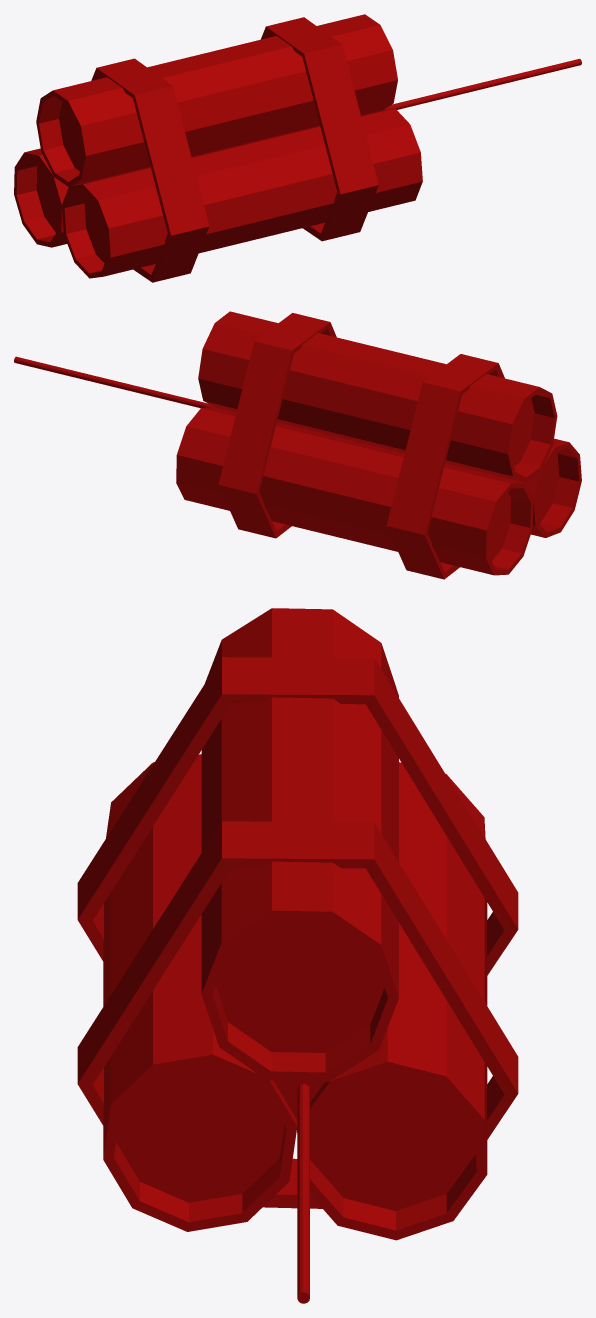
The model's file is env_Dynamite.fbx.
The picture shows the model from 3 angles, top to bottom: view 1: azimuth 30°, elevation 25°; view 2: azimuth 150°, elevation 25°; view 3: azimuth 270°, elevation 25°; orthographic projection. The views are drawn at different scales.
Parts seen in each view (by area): view 1: env_Dynamite; view 2: env_Dynamite; view 3: env_Dynamite.
Boxes of the visible parts, bbox=[...] form: env_Dynamite: bbox=[14, 14, 581, 282]; env_Dynamite: bbox=[14, 311, 581, 579]; env_Dynamite: bbox=[77, 608, 518, 1303].
Bounding box in the file's own units: 47.5 × 15.54 × 17.55.
